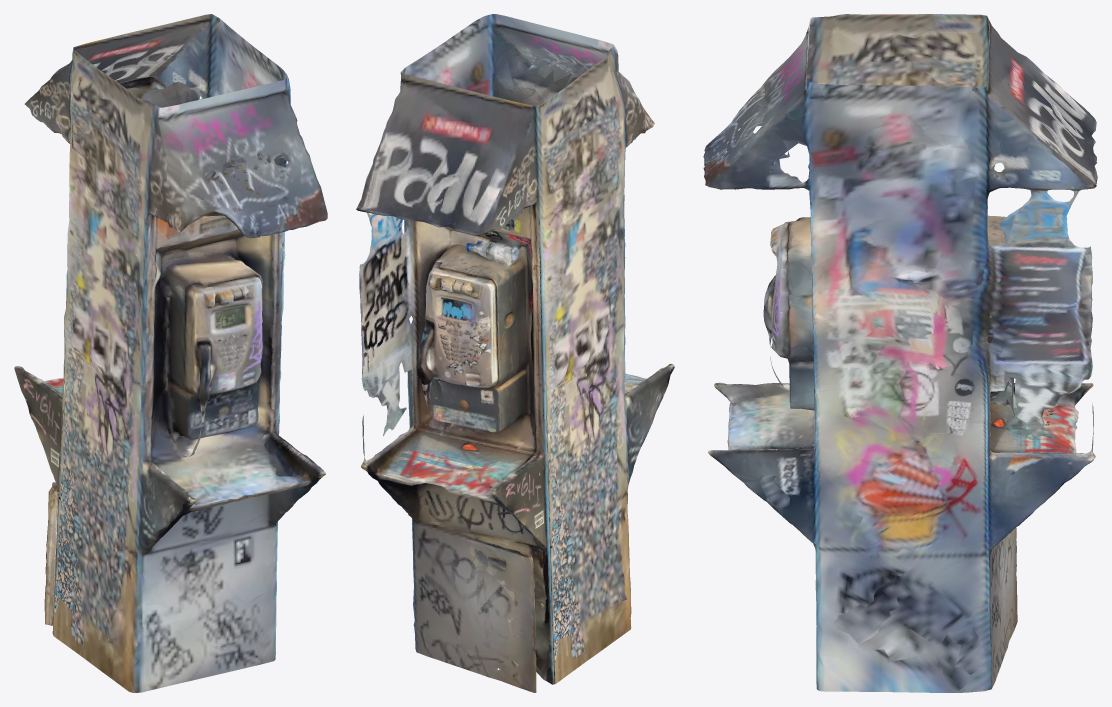
Rendered from booth.glb.
3 renders of one model, left to right at view 1: azimuth 30°, elevation 25°; view 2: azimuth 150°, elevation 25°; view 3: azimuth 270°, elevation 25°, orthographic. The views are drawn at different scales.
Parts seen in each view (by area): view 1: Object_2; view 2: Object_2; view 3: Object_2.
Boxes of the visible parts, x1,y1,x2,y2 form: Object_2: (14, 14, 327, 692); Object_2: (356, 14, 674, 692); Object_2: (703, 14, 1097, 692).
Bounding box in the file's own units: 0.6717 × 2.21 × 1.29.
1 material, 1 textured.
